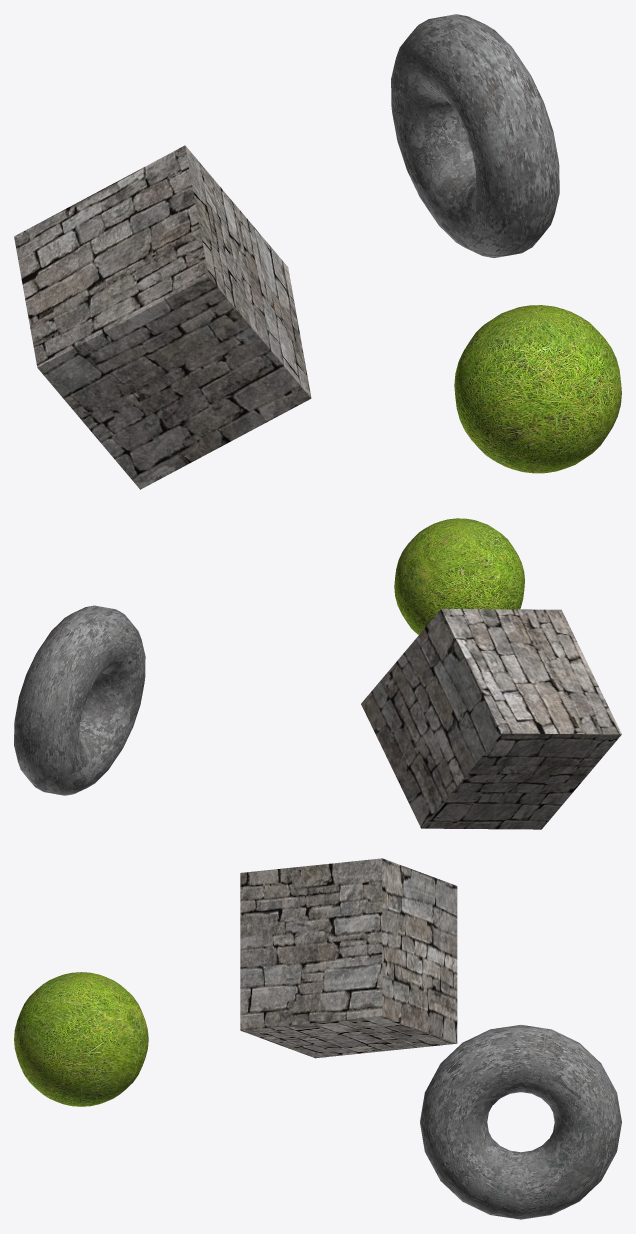
File: primitives.fbx
The picture shows the model from 3 angles, top to bottom: view 1: azimuth 30°, elevation 25°; view 2: azimuth 150°, elevation 25°; view 3: azimuth 270°, elevation 25°; orthographic projection. The views are drawn at different scales.
Visible parts, largest first — view 1: pCube1, pTorus1, pSphere1; view 2: pCube1, pTorus1, pSphere1; view 3: pCube1, pTorus1, pSphere1.
Part boxes in pixels (bbox=[...]): pCube1: bbox=[14, 145, 311, 489]; pTorus1: bbox=[391, 14, 559, 257]; pSphere1: bbox=[454, 305, 621, 473]; pCube1: bbox=[361, 608, 621, 829]; pTorus1: bbox=[14, 605, 145, 795]; pSphere1: bbox=[394, 518, 524, 634]; pCube1: bbox=[240, 858, 457, 1058]; pTorus1: bbox=[420, 1025, 621, 1219]; pSphere1: bbox=[14, 972, 148, 1106].
Size of the model in its own units: 8.37 by 3.83 by 9.02.
Materials: 3 (3 with a texture image).
